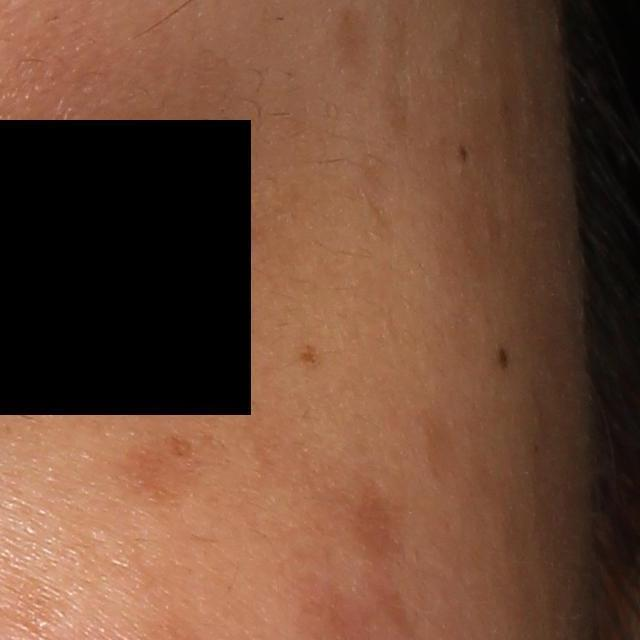melasma: (167, 432, 197, 459)
nevus: (296, 339, 320, 366), (496, 343, 509, 371), (457, 142, 470, 163)
